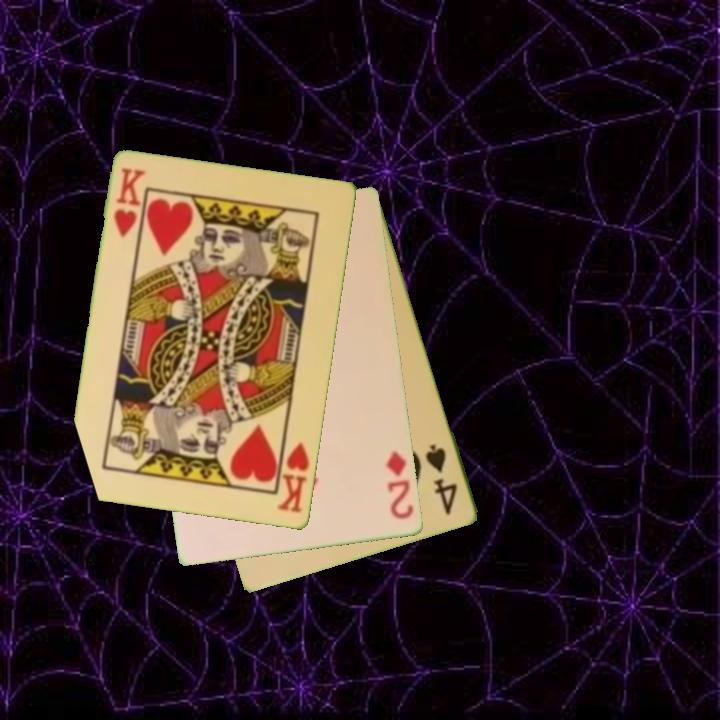2d: (383, 448, 417, 523)
4s: (422, 440, 461, 518)
Kh: (273, 433, 313, 516), (110, 164, 148, 241)
